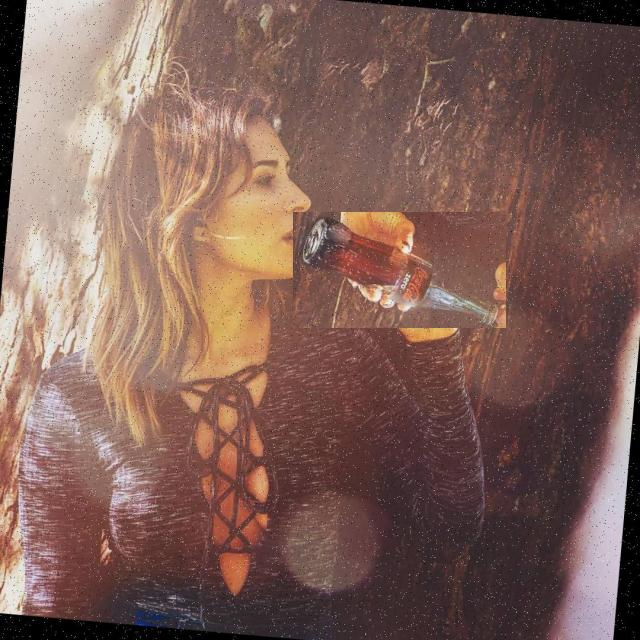coca-cola: (293, 212, 506, 328)
